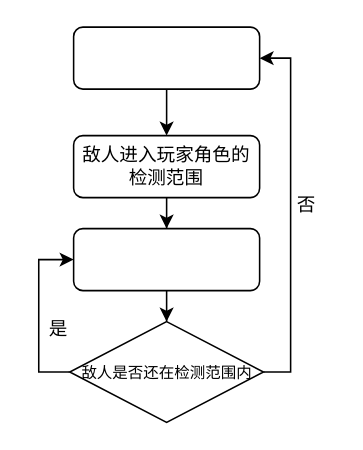
This 363x450 diagram has some shape labels left out. The shapes that lost their labels are listed below. From the top down, each one's centre as x and y in pixels, then its label:
point (166, 57): 静息心率60~80bpm 上限为80bpm
point (166, 259): 角色进入紧张状态 心率提高到80-110bpm，距离越近越高
